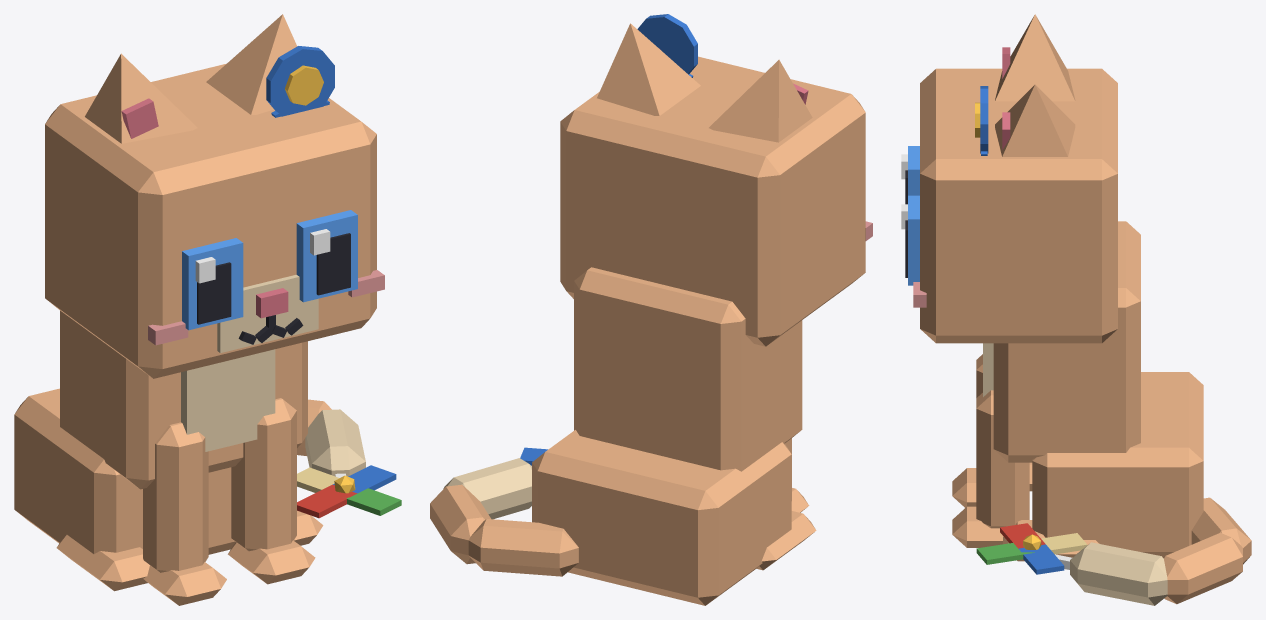
File: CatCafe_Cat_Pinwheel_Sit.glb
The picture shows the model from 3 angles, left to right: view 1: azimuth 30°, elevation 25°; view 2: azimuth 150°, elevation 25°; view 3: azimuth 270°, elevation 25°; orthographic projection. The views are drawn at different scales.
Visible parts, largest first — view 1: CatCafe_Cat_Pinwheel_Sit_Head, CatCafe_Cat_Pinwheel_Sit_Body, CatCafe_Cat_Pinwheel_Sit_LegF2, CatCafe_Cat_Pinwheel_Sit_LegF1, CatCafe_Cat_Pinwheel_Sit_EarR, CatCafe_Cat_Pinwheel_Sit_Eye2, CatCafe_Cat_Pinwheel_Sit_Eye1, CatCafe_Cat_Pinwheel_Sit_EarL, CatCafe_Cat_Pinwheel_Sit_Prop, CatCafe_Cat_Pinwheel_Sit_Tail_Pinwheel, CatCafe_Cat_Pinwheel_Sit_Tail; view 2: CatCafe_Cat_Pinwheel_Sit_Body, CatCafe_Cat_Pinwheel_Sit_Head, CatCafe_Cat_Pinwheel_Sit_Tail, CatCafe_Cat_Pinwheel_Sit_EarL, CatCafe_Cat_Pinwheel_Sit_EarR, CatCafe_Cat_Pinwheel_Sit_Prop; view 3: CatCafe_Cat_Pinwheel_Sit_Head, CatCafe_Cat_Pinwheel_Sit_Body, CatCafe_Cat_Pinwheel_Sit_Tail, CatCafe_Cat_Pinwheel_Sit_LegF1, CatCafe_Cat_Pinwheel_Sit_EarL, CatCafe_Cat_Pinwheel_Sit_EarR, CatCafe_Cat_Pinwheel_Sit_Tail_Pinwheel, CatCafe_Cat_Pinwheel_Sit_Eye1, CatCafe_Cat_Pinwheel_Sit_LegF2, CatCafe_Cat_Pinwheel_Sit_Eye2, CatCafe_Cat_Pinwheel_Sit_Prop.
Part boxes in pixels (bbox=[...]): CatCafe_Cat_Pinwheel_Sit_Head: bbox=[45, 63, 384, 378]; CatCafe_Cat_Pinwheel_Sit_Body: bbox=[14, 310, 323, 591]; CatCafe_Cat_Pinwheel_Sit_LegF2: bbox=[143, 422, 226, 605]; CatCafe_Cat_Pinwheel_Sit_LegF1: bbox=[228, 398, 315, 584]; CatCafe_Cat_Pinwheel_Sit_EarR: bbox=[85, 53, 197, 143]; CatCafe_Cat_Pinwheel_Sit_Eye2: bbox=[182, 238, 243, 330]; CatCafe_Cat_Pinwheel_Sit_Eye1: bbox=[296, 210, 357, 302]; CatCafe_Cat_Pinwheel_Sit_EarL: bbox=[206, 14, 297, 114]; CatCafe_Cat_Pinwheel_Sit_Prop: bbox=[266, 46, 334, 117]; CatCafe_Cat_Pinwheel_Sit_Tail_Pinwheel: bbox=[297, 465, 401, 518]; CatCafe_Cat_Pinwheel_Sit_Tail: bbox=[297, 399, 365, 476]; CatCafe_Cat_Pinwheel_Sit_Body: bbox=[532, 267, 816, 605]; CatCafe_Cat_Pinwheel_Sit_Head: bbox=[560, 56, 872, 346]; CatCafe_Cat_Pinwheel_Sit_Tail: bbox=[430, 458, 578, 576]; CatCafe_Cat_Pinwheel_Sit_EarL: bbox=[597, 23, 700, 115]; CatCafe_Cat_Pinwheel_Sit_EarR: bbox=[709, 59, 812, 142]; CatCafe_Cat_Pinwheel_Sit_Prop: bbox=[637, 14, 697, 77]; CatCafe_Cat_Pinwheel_Sit_Head: bbox=[913, 68, 1117, 343]; CatCafe_Cat_Pinwheel_Sit_Body: bbox=[983, 221, 1203, 561]; CatCafe_Cat_Pinwheel_Sit_Tail: bbox=[1070, 497, 1251, 605]; CatCafe_Cat_Pinwheel_Sit_LegF1: bbox=[952, 390, 1029, 547]; CatCafe_Cat_Pinwheel_Sit_EarL: bbox=[995, 84, 1075, 156]; CatCafe_Cat_Pinwheel_Sit_EarR: bbox=[995, 14, 1075, 101]; CatCafe_Cat_Pinwheel_Sit_Tail_Pinwheel: bbox=[976, 523, 1087, 574]; CatCafe_Cat_Pinwheel_Sit_Eye1: bbox=[901, 195, 919, 285]; CatCafe_Cat_Pinwheel_Sit_LegF2: bbox=[952, 354, 982, 507]; CatCafe_Cat_Pinwheel_Sit_Eye2: bbox=[901, 146, 919, 204]; CatCafe_Cat_Pinwheel_Sit_Prop: bbox=[975, 86, 988, 155].
Size of the model in its own units: 1.24 by 1.85 by 1.24.
Materials: 1 (1 with a texture image).
